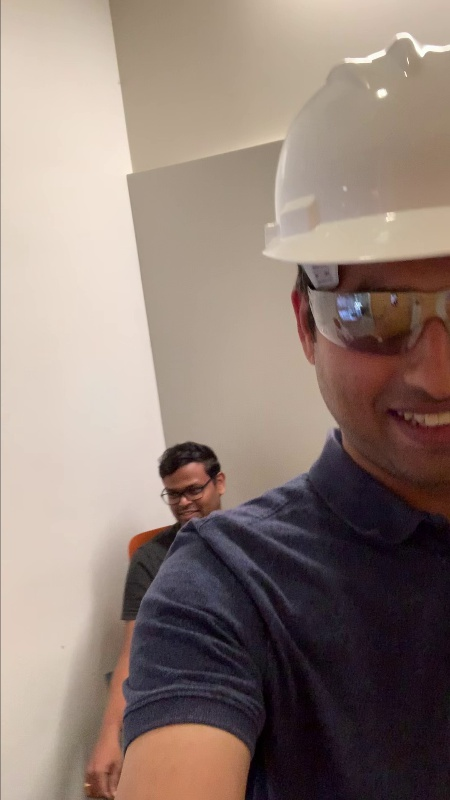glasses: (300, 281, 450, 350)
helmet: (245, 26, 450, 272)
